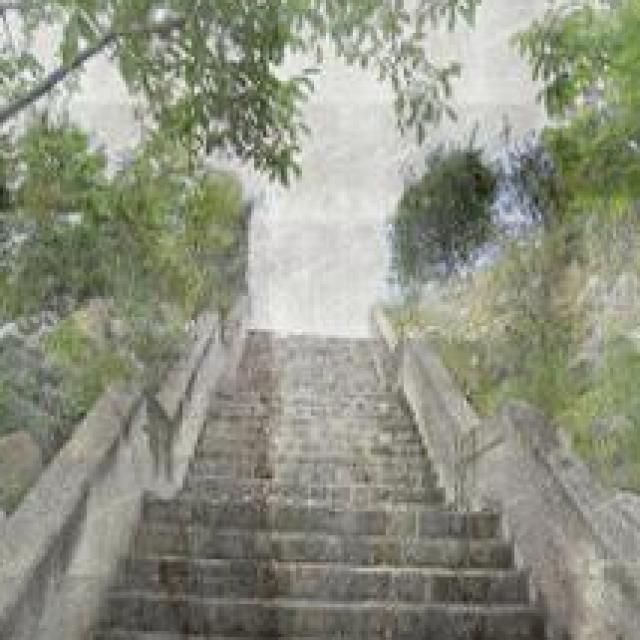upstair: (118, 366, 557, 640)
